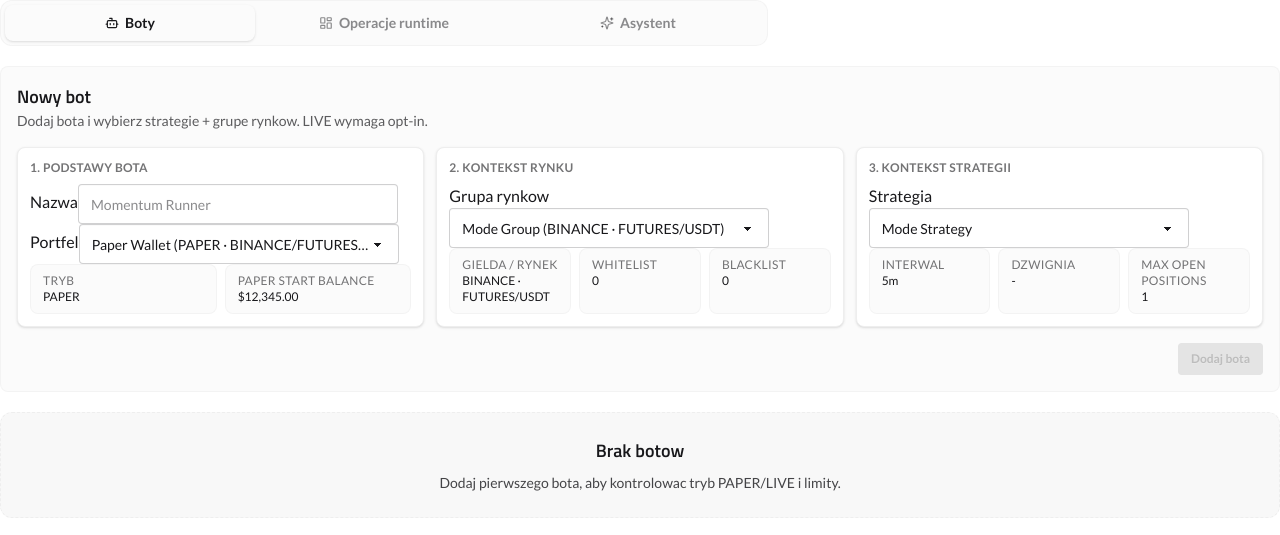
BotsManagement › shows and hides paper start balance based on selected bot mode
The image size is (1280, 535).
Expected: the text "PAPER" is shown, [43, 289, 80, 304]
Expected: the text "$12,345.00" is shown, [238, 289, 298, 304]
Step 1. Select "Live Wallet (LIVE · BINANCE/FUTURES/USDT)" in the dropdown labelled "Portfel" → {"x": 239, "y": 244}, box [79, 224, 399, 264]
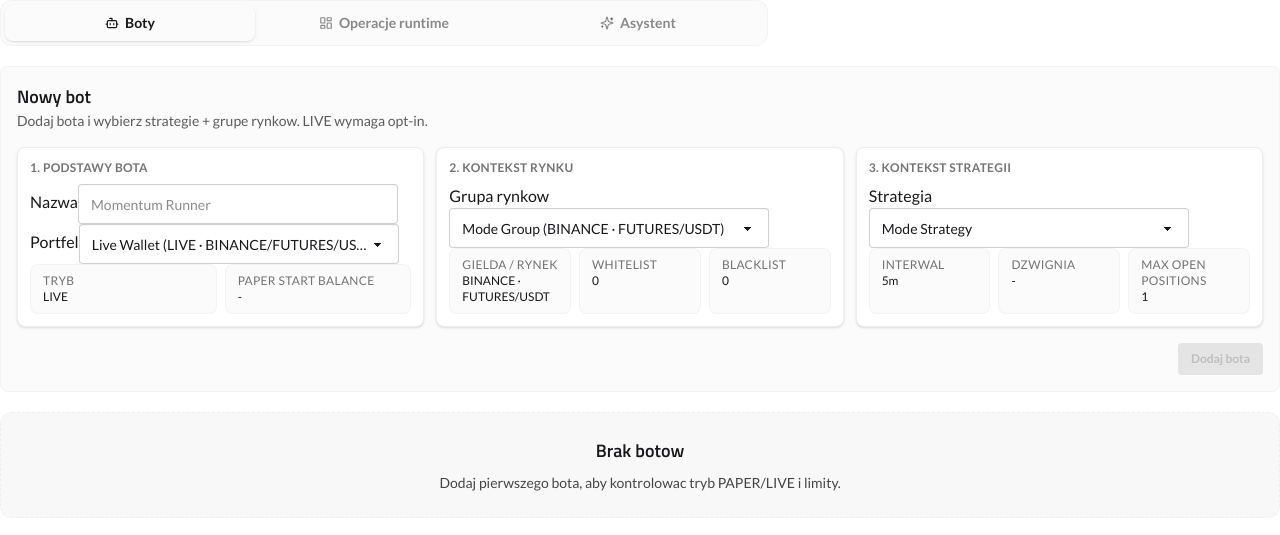
Result: the text "LIVE" is shown at [43, 289, 68, 304]
Result: the text "$12,345.00" is gone
